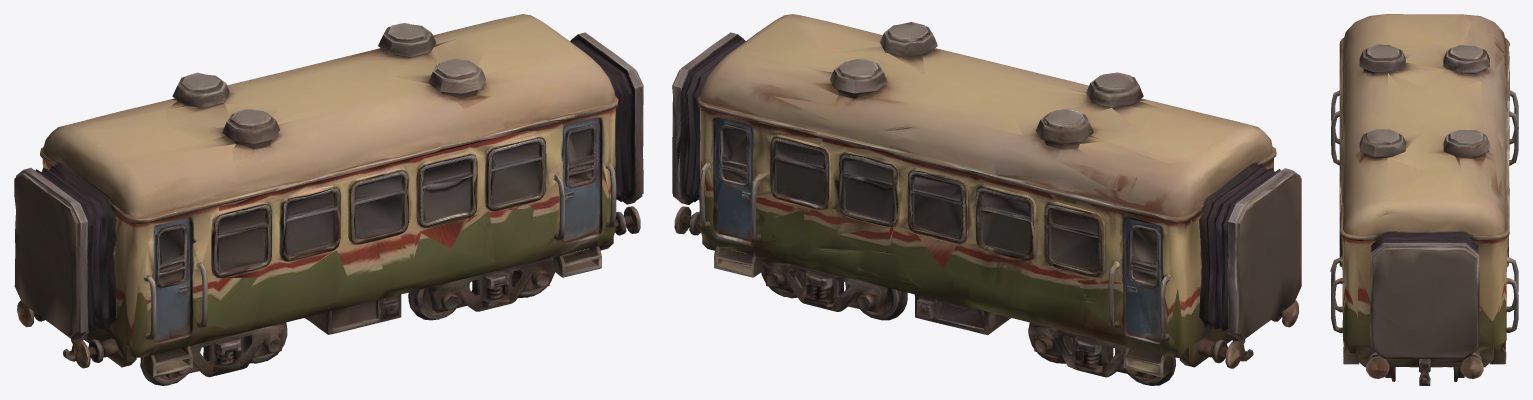
The model's file is train_coach_idle.glb.
The picture shows the model from 3 angles, left to right: view 1: azimuth 30°, elevation 25°; view 2: azimuth 150°, elevation 25°; view 3: azimuth 270°, elevation 25°; orthographic projection. The views are drawn at different scales.
Visible parts, largest first — view 1: tripo_node_3b6e8ff4-eb24-45ec-8aaf-2663d1fd4926; view 2: tripo_node_3b6e8ff4-eb24-45ec-8aaf-2663d1fd4926; view 3: tripo_node_3b6e8ff4-eb24-45ec-8aaf-2663d1fd4926.
Part boxes in pixels (<box>): tripo_node_3b6e8ff4-eb24-45ec-8aaf-2663d1fd4926: <box>14,14,643,385</box>; tripo_node_3b6e8ff4-eb24-45ec-8aaf-2663d1fd4926: <box>672,14,1301,385</box>; tripo_node_3b6e8ff4-eb24-45ec-8aaf-2663d1fd4926: <box>1330,14,1518,385</box>.
Size of the model in its own units: 8 by 3.43 by 2.74.
Materials: 1 (1 with a texture image).
